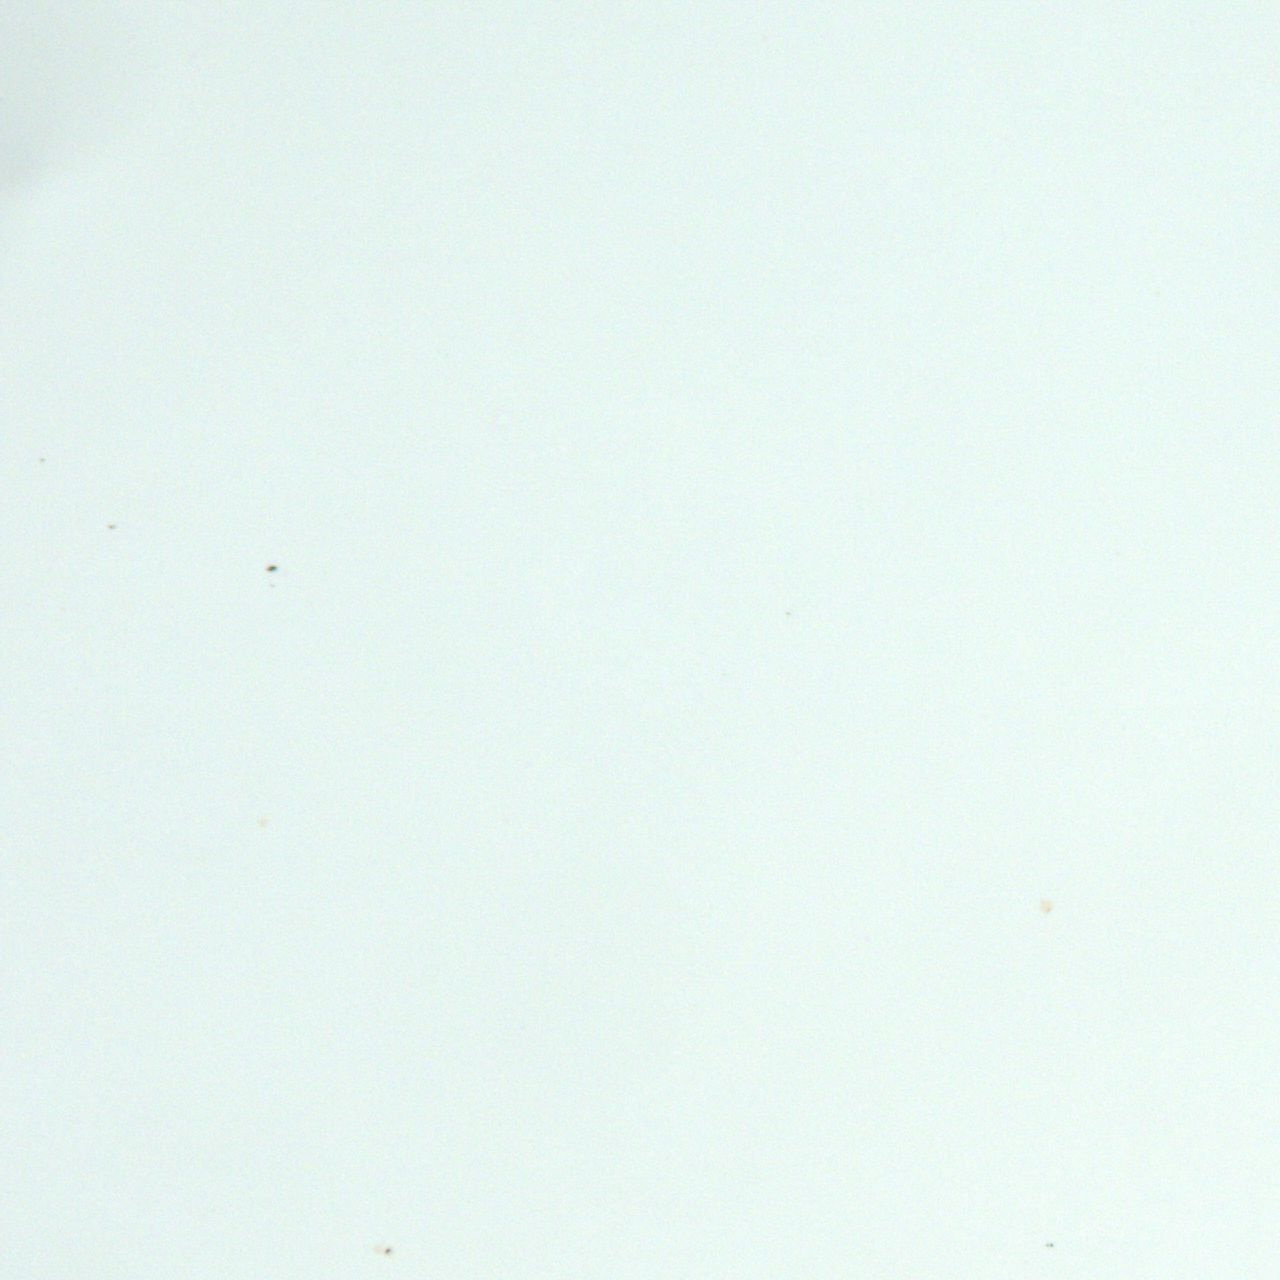dust: (264, 564, 277, 571), (383, 1247, 391, 1254), (106, 523, 115, 529)
